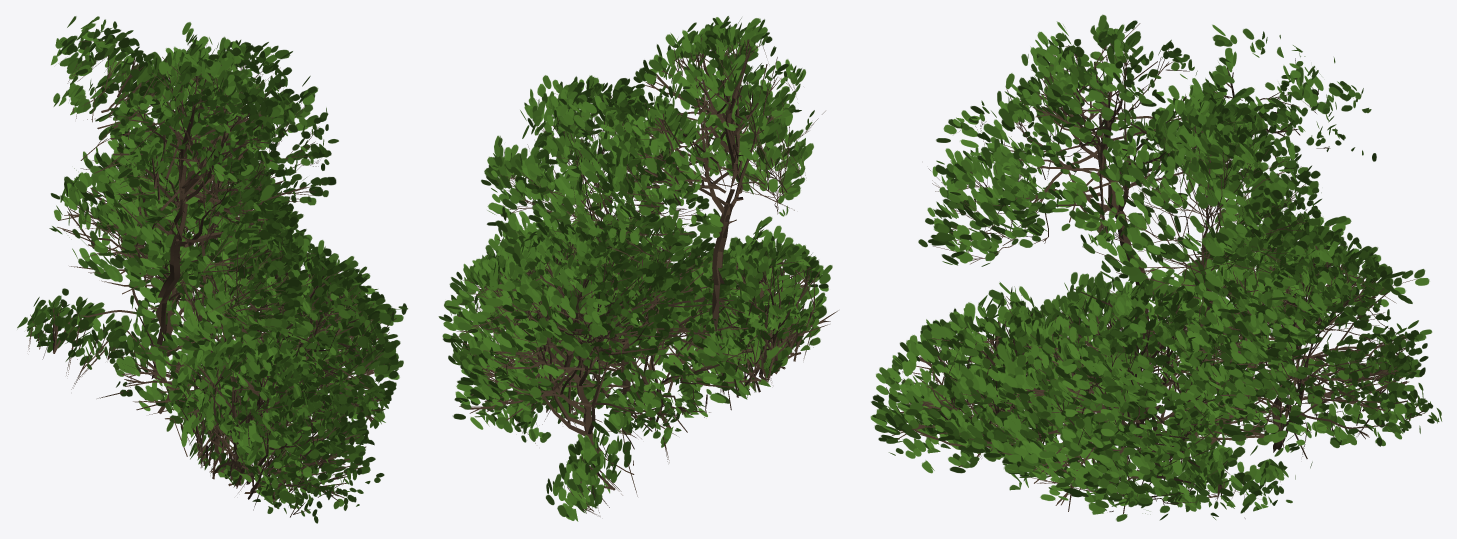
The picture shows the model from 3 angles, left to right: view 1: azimuth 30°, elevation 25°; view 2: azimuth 150°, elevation 25°; view 3: azimuth 270°, elevation 25°; orthographic projection. The views are drawn at different scales.
Visible parts, largest first — view 1: oak 01.001_trunk_Mat.001_0.480; view 2: oak 01.001_trunk_Mat.001_0.480; view 3: oak 01.001_trunk_Mat.001_0.480.
Part boxes in pixels (x1,y1,x2,y2): oak 01.001_trunk_Mat.001_0.480: [17, 16, 407, 523]; oak 01.001_trunk_Mat.001_0.480: [438, 16, 838, 521]; oak 01.001_trunk_Mat.001_0.480: [870, 14, 1441, 521].
Size of the model in its own units: 2.39 by 3.82 by 4.6.
2 materials, 1 textured.
